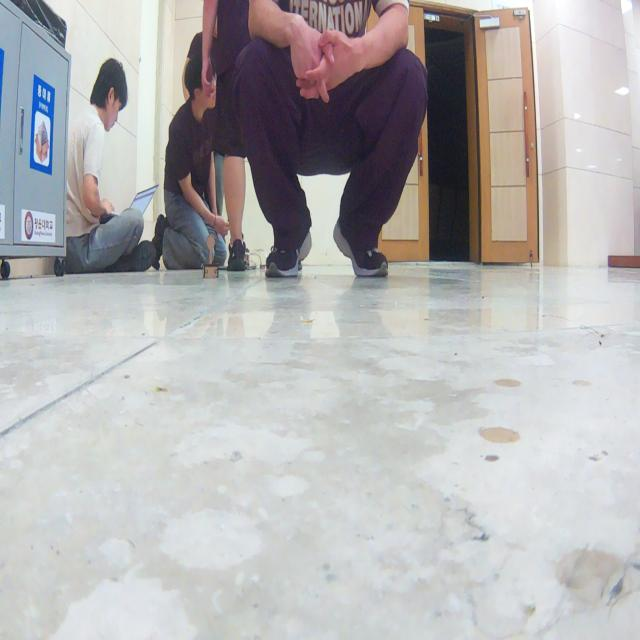target: (201, 234, 219, 279)
